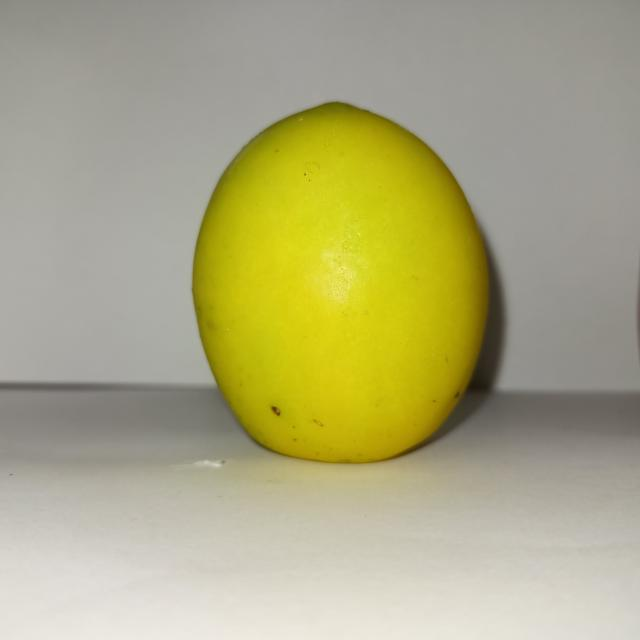Red: (190, 99, 492, 464)
